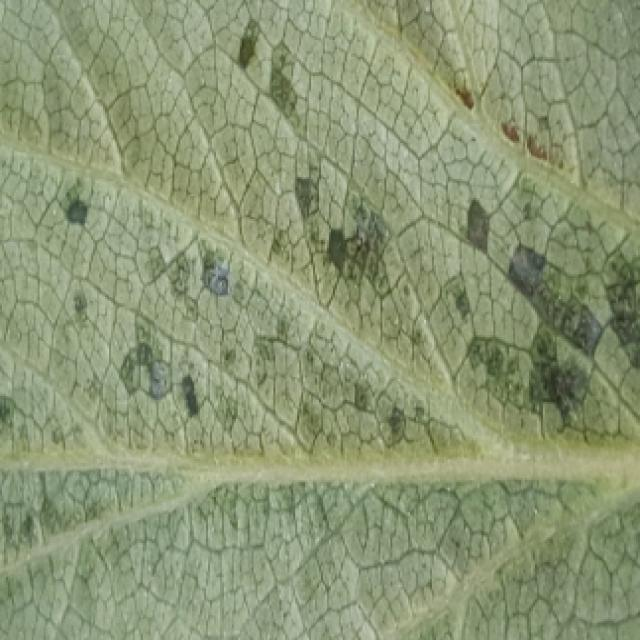Angular Leafspot: (0, 11, 640, 580)
